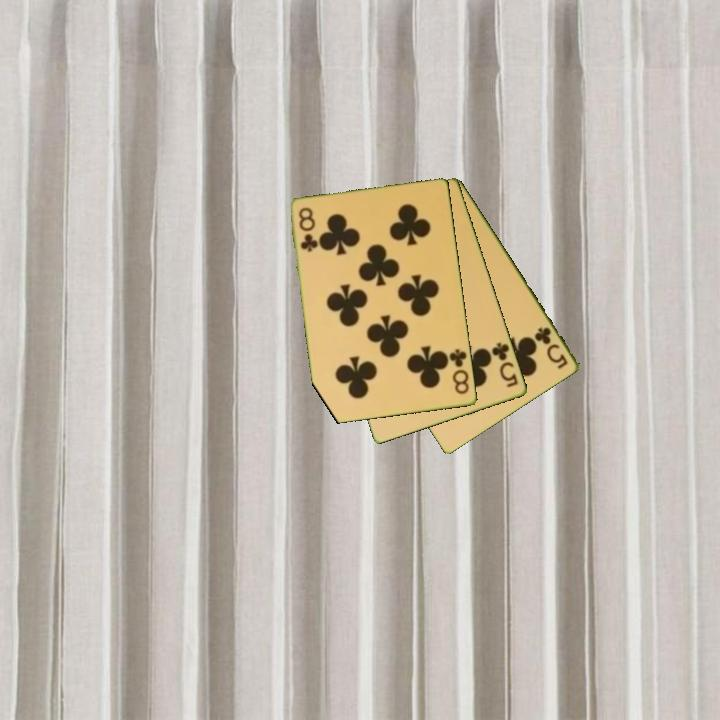5c: (531, 324, 571, 372), (488, 339, 521, 390)
8c: (445, 345, 472, 397), (295, 204, 320, 255)
